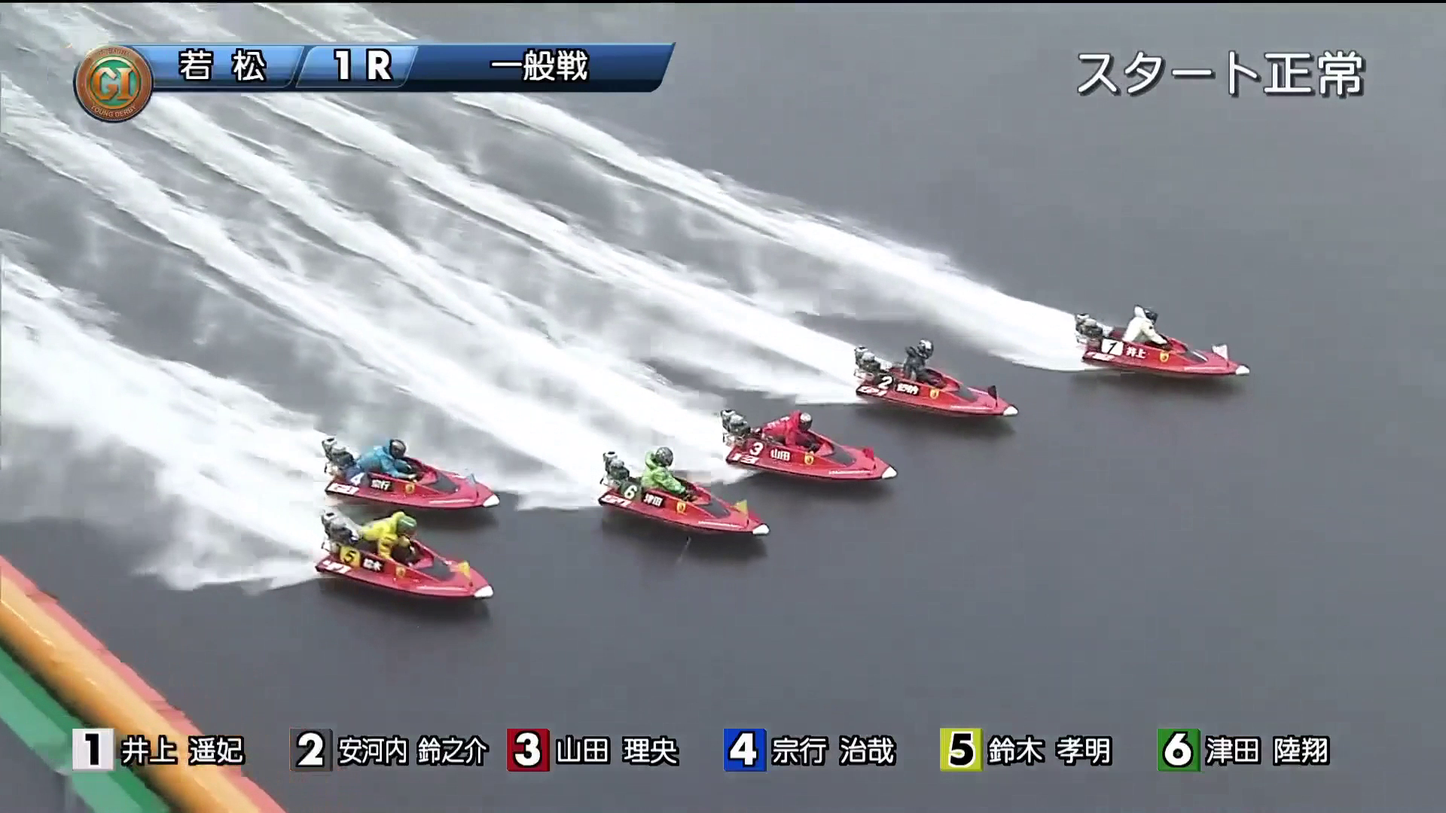１号艇: (1077, 328, 1215, 382)
２号艇: (855, 354, 983, 414)
３号艇: (754, 426, 895, 469)
４号艇: (617, 466, 738, 532)
５号艇: (339, 449, 463, 504)
６号艇: (389, 546, 488, 603)
